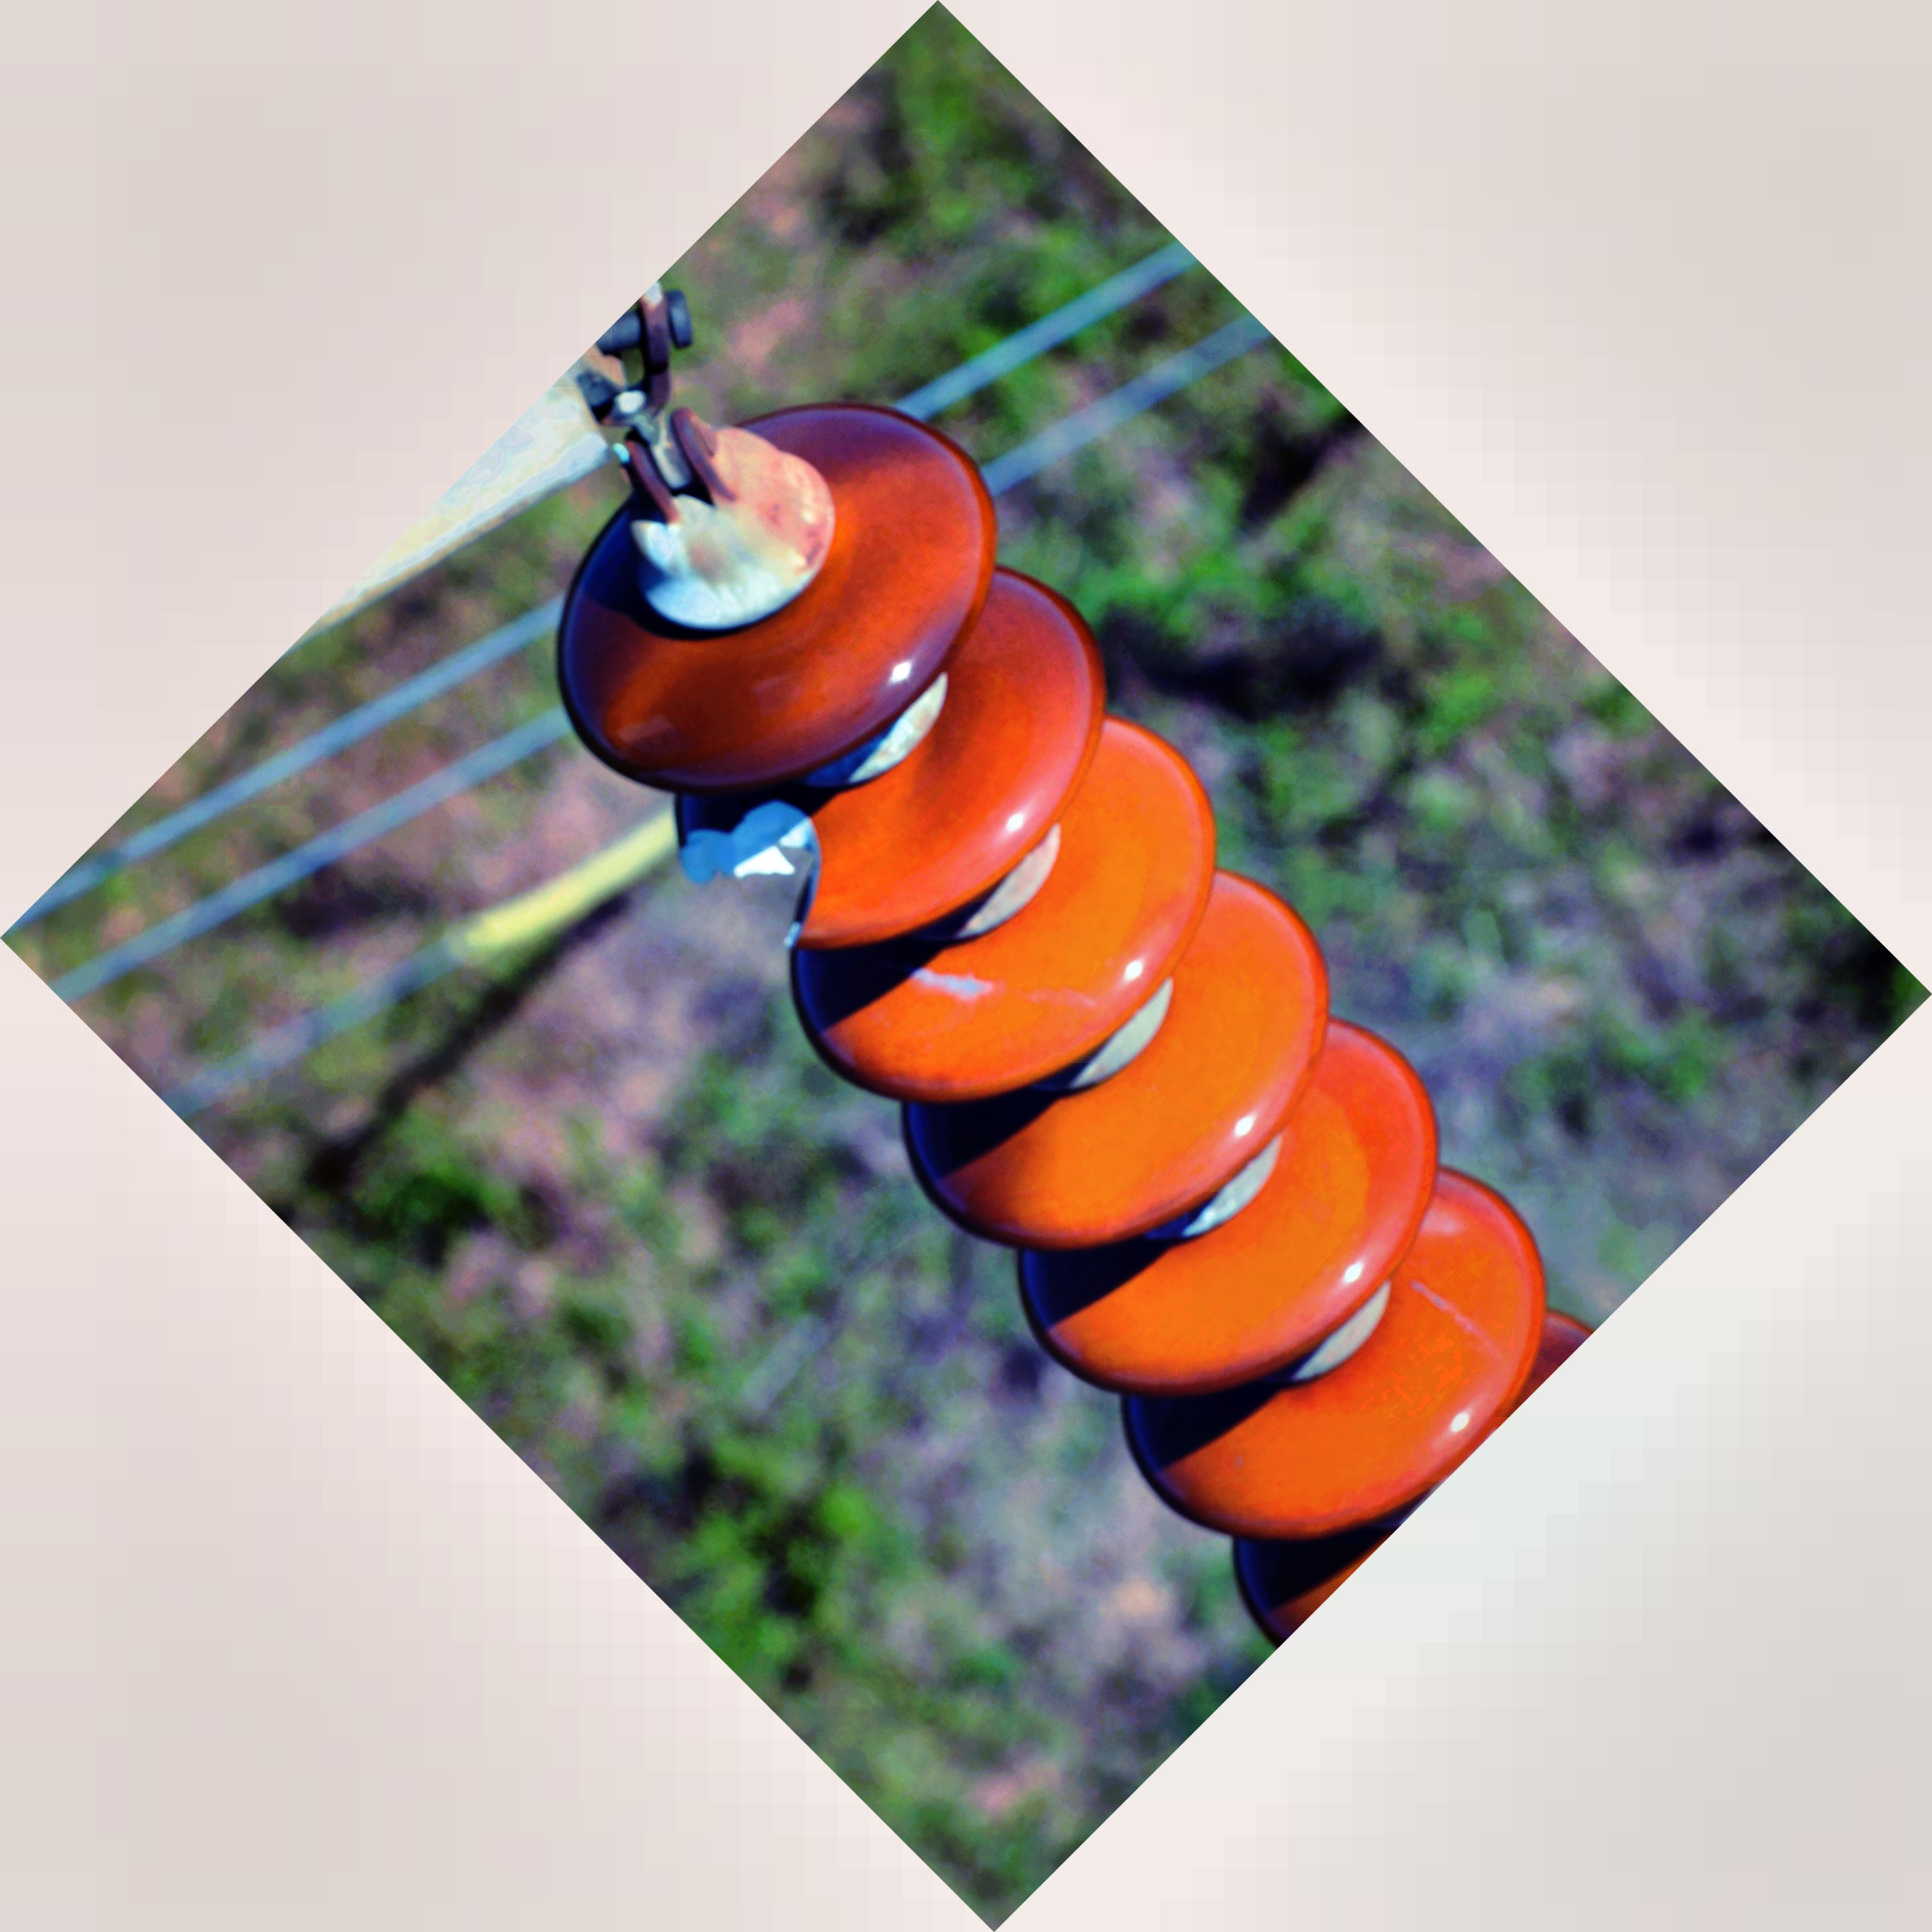insulator breakage: (640, 552, 1118, 961)
